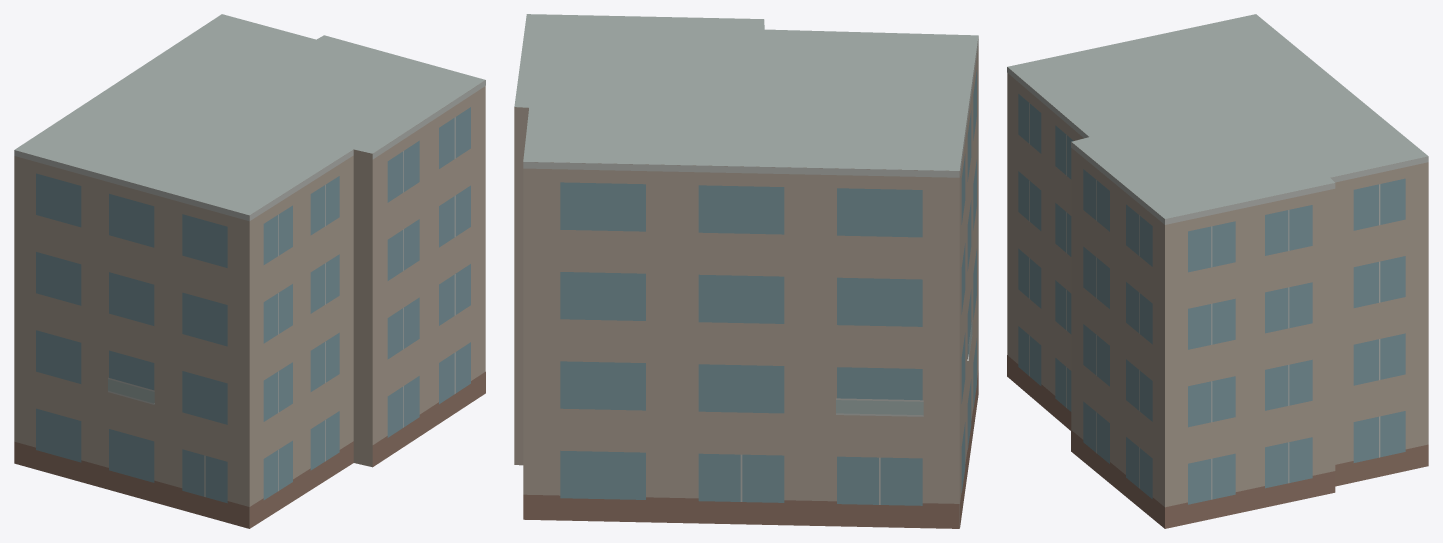
Rendered from survey-upis-32748732.glb.
3 renders of one model, left to right at view 1: azimuth 30°, elevation 25°; view 2: azimuth 150°, elevation 25°; view 3: azimuth 270°, elevation 25°, orthographic. The views are drawn at different scales.
Parts seen in each view (by area): view 1: survey-upis-32748732.tmp; view 2: survey-upis-32748732.tmp; view 3: survey-upis-32748732.tmp.
Part boxes in pixels (x1=…): survey-upis-32748732.tmp: x1=14, y1=14, x2=485, y2=528; survey-upis-32748732.tmp: x1=514, y1=14, x2=978, y2=528; survey-upis-32748732.tmp: x1=1007, y1=14, x2=1428, y2=528.
Size of the model in its own units: 18.4 by 12.95 by 15.98.
